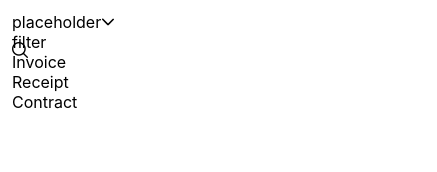
Test: TagPicker — owned tag search box and its clear (#286) › clears the typed text, restores every option and keeps the caret in the box
The image size is (437, 172).
Type "rec" into the search field with class "tp-filter-input" at (136, 42), box [12,32,260,52]
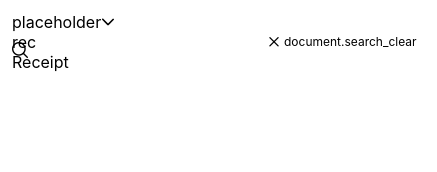
Press the mouse on the button with class "tp-filter-clear" at (342, 42), box [264,34,420,50]
Click the button with class "tp-filter-clear" at (342, 42), box [264,34,420,50]
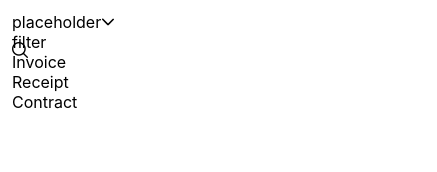
Now the search field with class "tp-filter-input" is empty, box [12,32,260,52]
Now the button with class "tp-filter-clear" is gone
